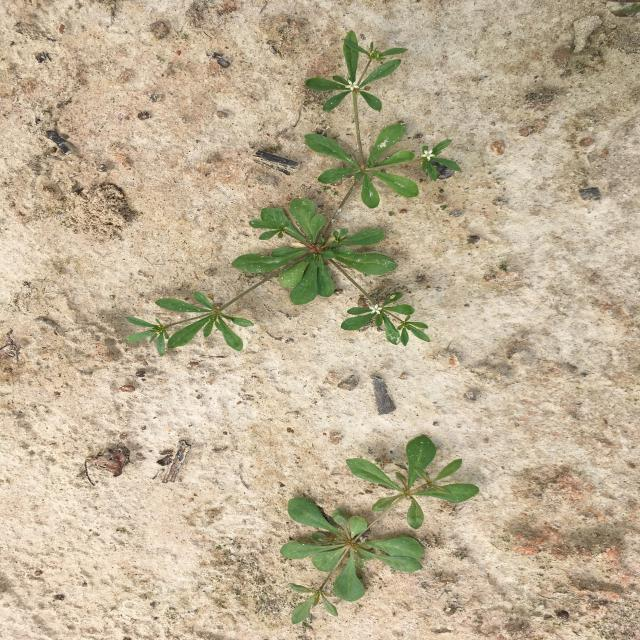Carpetweed: (124, 31, 462, 357), (280, 435, 480, 625)
